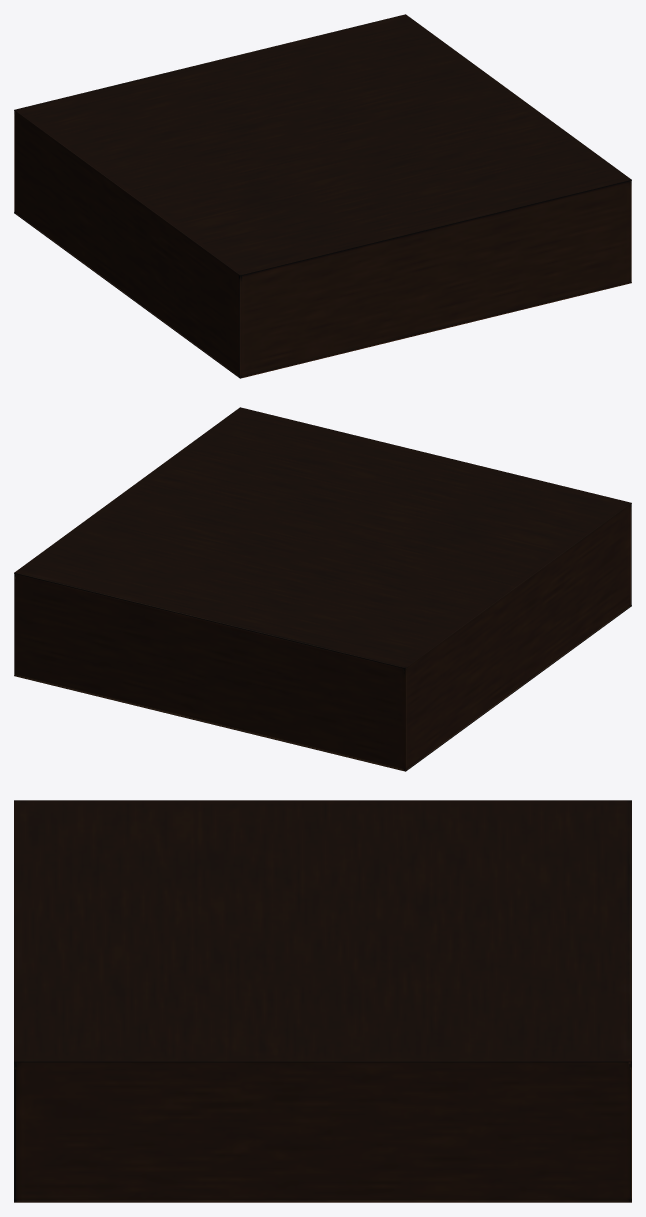
File: ruangan-kotak-besar-original.glb
The picture shows the model from 3 angles, top to bottom: view 1: azimuth 30°, elevation 25°; view 2: azimuth 150°, elevation 25°; view 3: azimuth 270°, elevation 25°; orthographic projection. The views are drawn at different scales.
Parts seen in each view (by area): view 1: Ruangan Kotak Besar; view 2: Ruangan Kotak Besar; view 3: Ruangan Kotak Besar.
Boxes of the visible parts, bbox=[...] form: Ruangan Kotak Besar: bbox=[14, 14, 631, 378]; Ruangan Kotak Besar: bbox=[14, 407, 631, 771]; Ruangan Kotak Besar: bbox=[14, 800, 631, 1202].
Size of the model in its own units: 16.1 by 4.05 by 16.1.
1 material, 1 textured.
